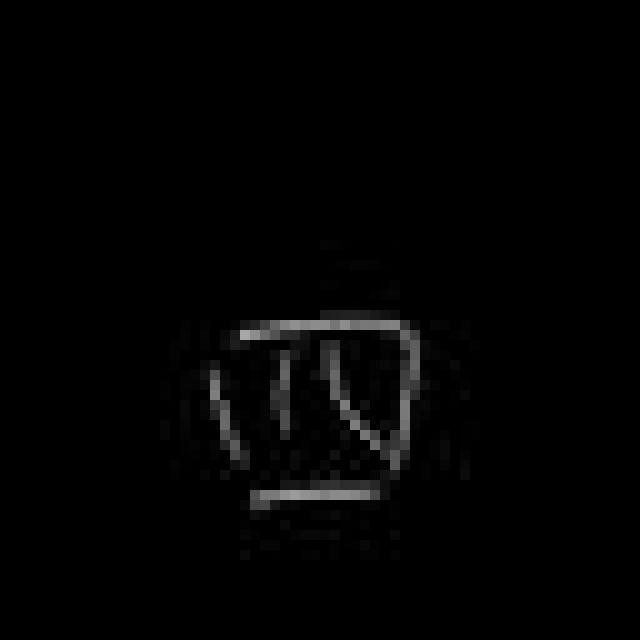4 -four-: (194, 306, 436, 530)
